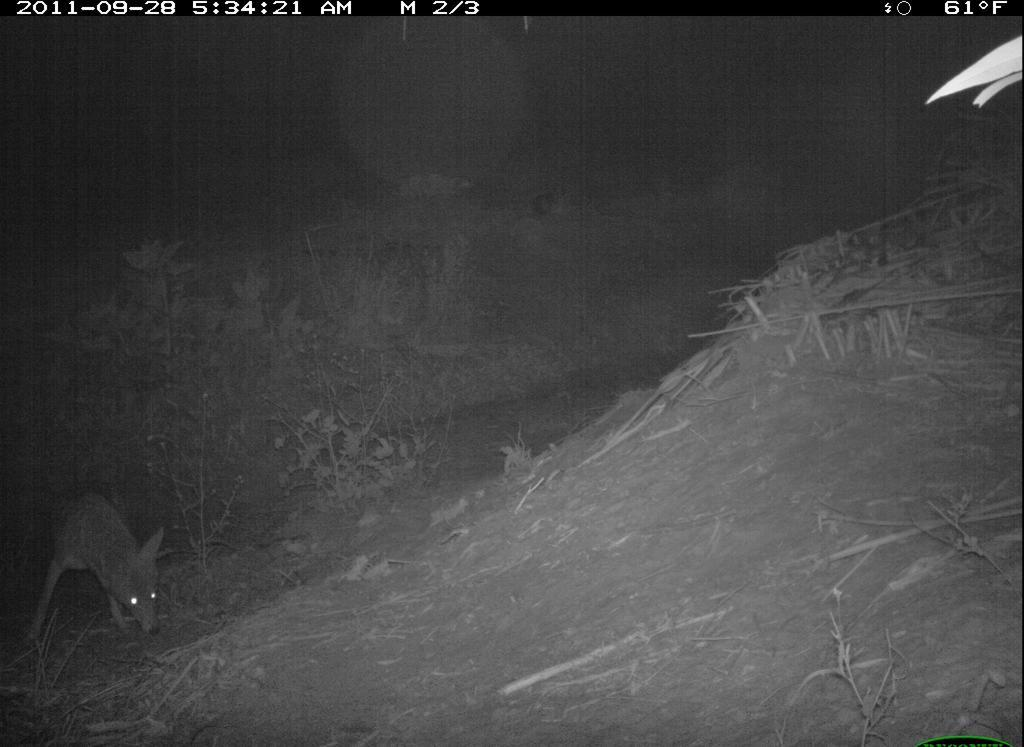coyote: (34, 474, 178, 649)
